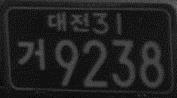1: (114, 12, 123, 35)
2: (82, 38, 109, 89)
3: (111, 39, 136, 87), (91, 12, 109, 35)
8: (139, 37, 165, 90)
9: (54, 38, 79, 87)
거: (17, 37, 46, 71)
대전_O: (46, 12, 90, 33)
